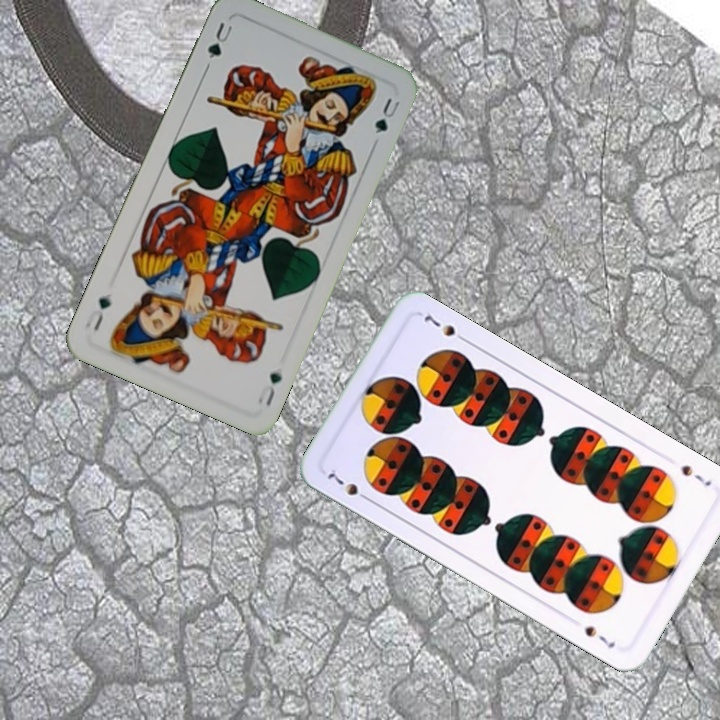GU: (203, 18, 236, 63), (254, 368, 285, 409)
S7: (323, 468, 374, 505), (677, 460, 714, 490)
